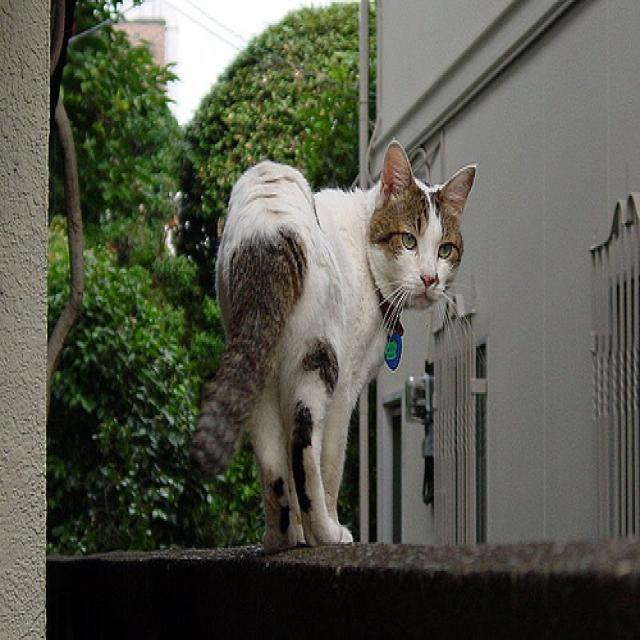cat: (189, 138, 479, 553)
